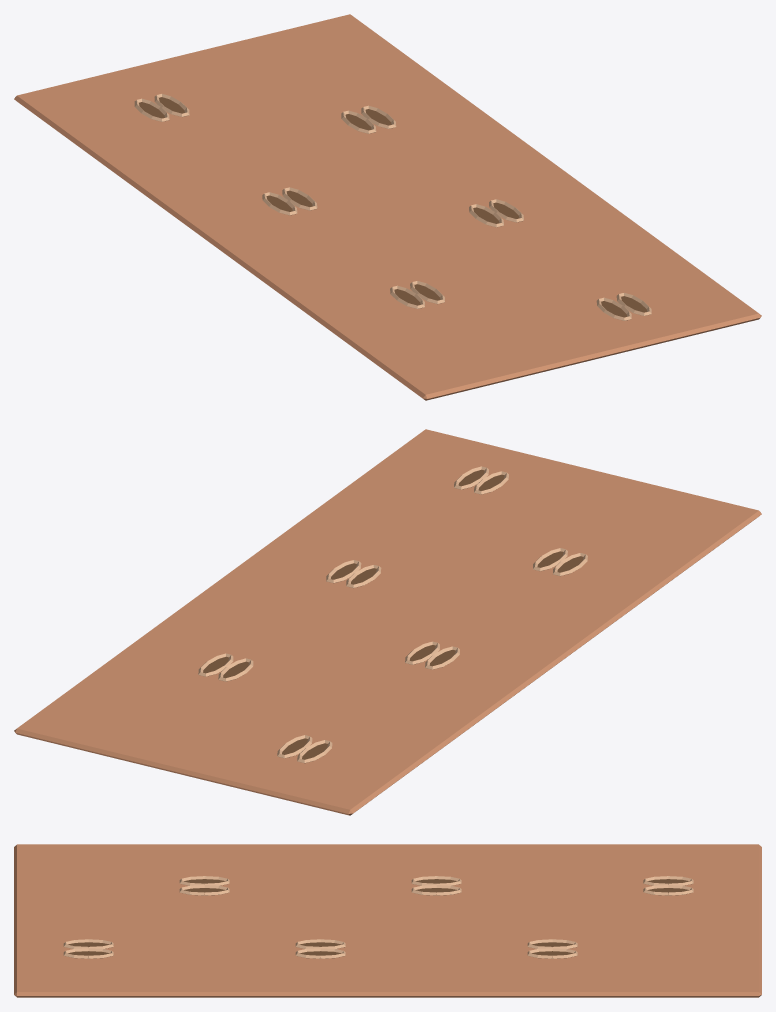
3 renders of one model, top to bottom at view 1: azimuth 30°, elevation 25°; view 2: azimuth 150°, elevation 25°; view 3: azimuth 270°, elevation 25°, orthographic. The views are drawn at different scales.
Visible parts, largest first — view 1: BA-0077 batched; view 2: BA-0077 batched; view 3: BA-0077 batched.
Boxes of the visible parts, x1,y1,x2,y2 form: BA-0077 batched: [14, 14, 761, 400]; BA-0077 batched: [14, 429, 761, 815]; BA-0077 batched: [14, 844, 761, 997].
Size of the model in its own units: 0.95 by 0.023 by 2.
